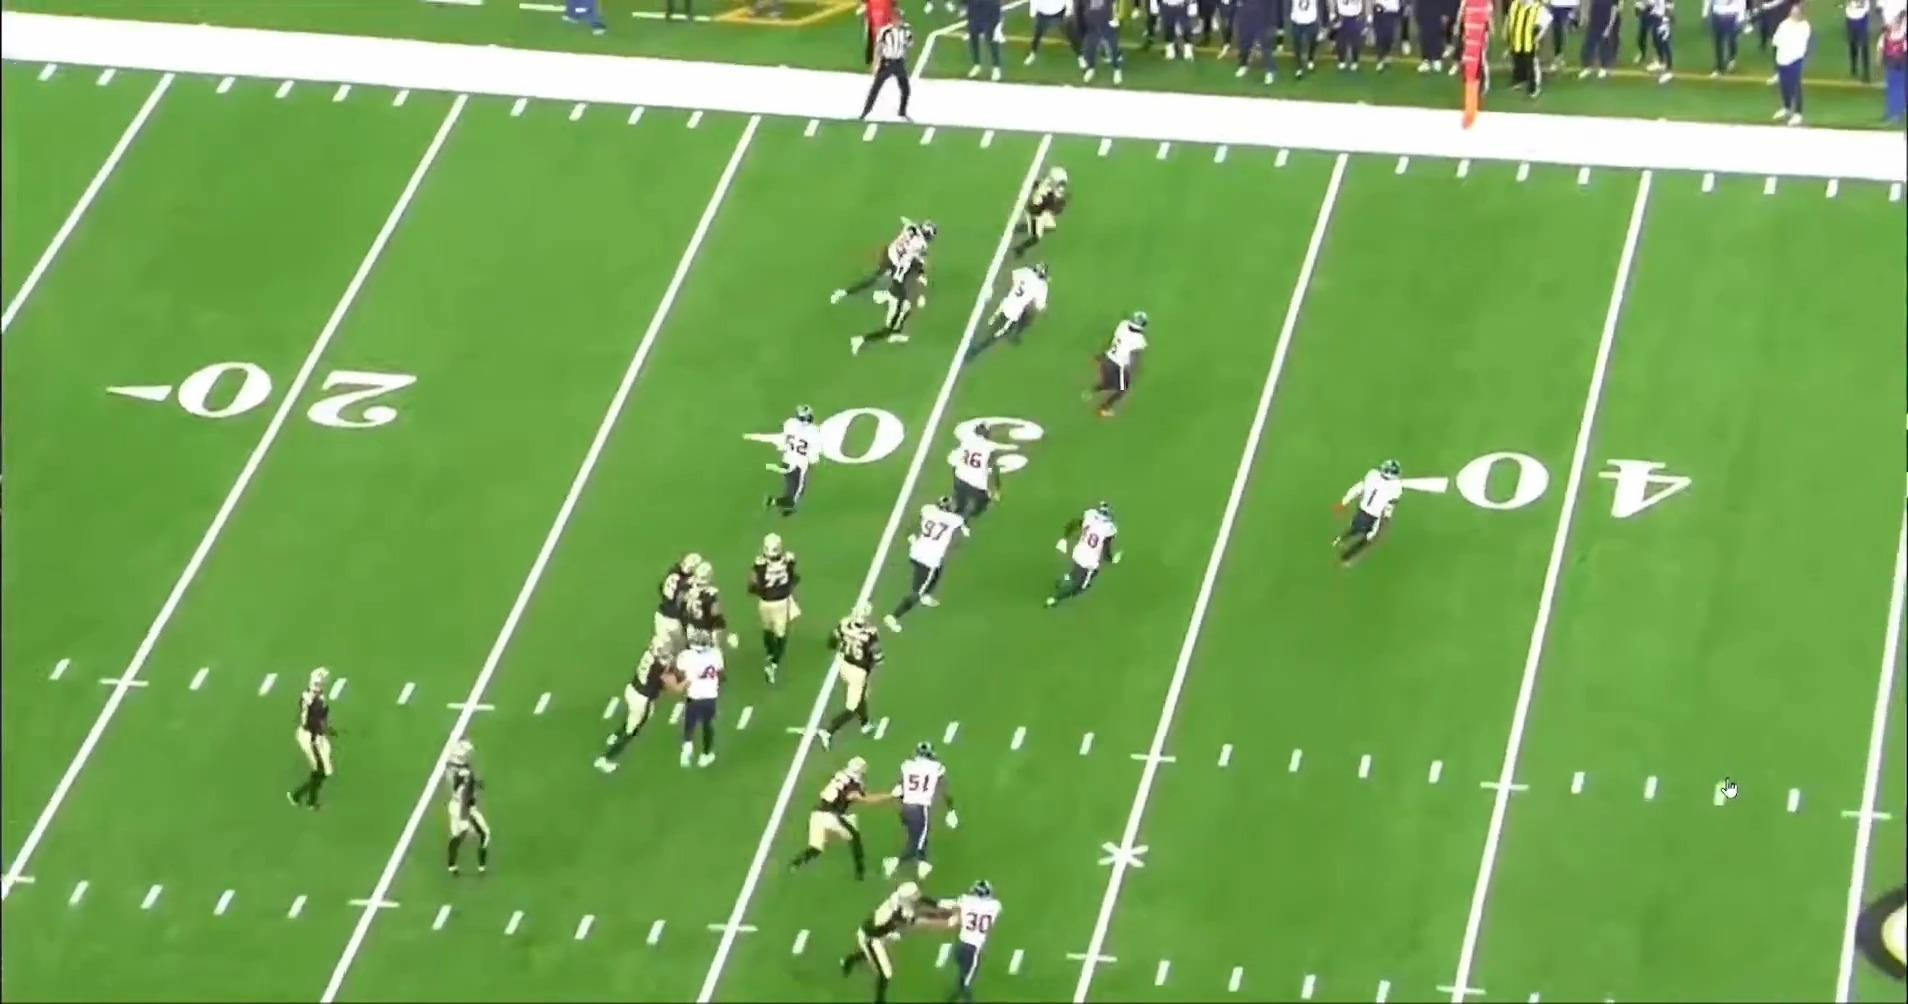defense: (821, 213, 938, 314), (882, 743, 960, 887), (926, 879, 1013, 1004), (892, 498, 969, 633), (1042, 500, 1124, 617), (1329, 453, 1410, 569), (680, 633, 744, 778), (1090, 307, 1160, 427), (944, 425, 1003, 538), (987, 264, 1055, 360), (770, 401, 823, 524)
oline: (587, 629, 683, 779), (640, 548, 712, 705), (819, 611, 896, 756), (739, 528, 803, 683), (681, 564, 737, 649)
qb: (291, 662, 351, 819)
ref: (861, 9, 929, 125)
skill: (788, 754, 896, 886), (840, 222, 926, 363), (834, 881, 932, 1004), (433, 733, 503, 886), (1018, 166, 1080, 265)
